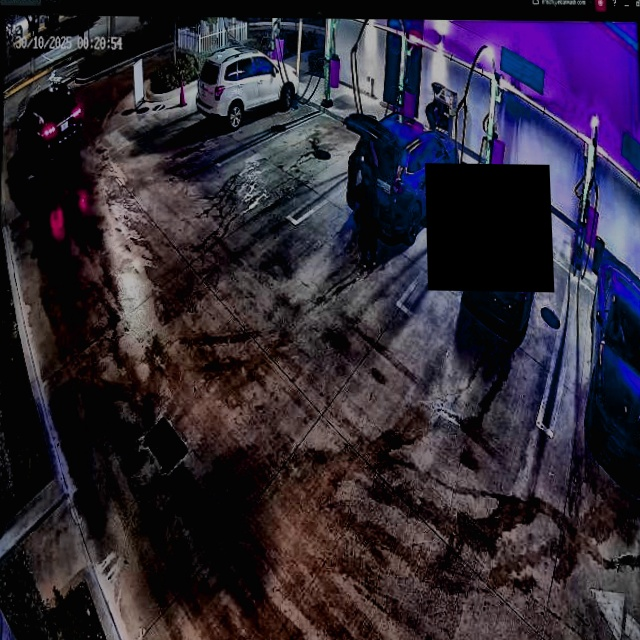Car: (461, 162, 550, 340), (344, 110, 459, 242)
